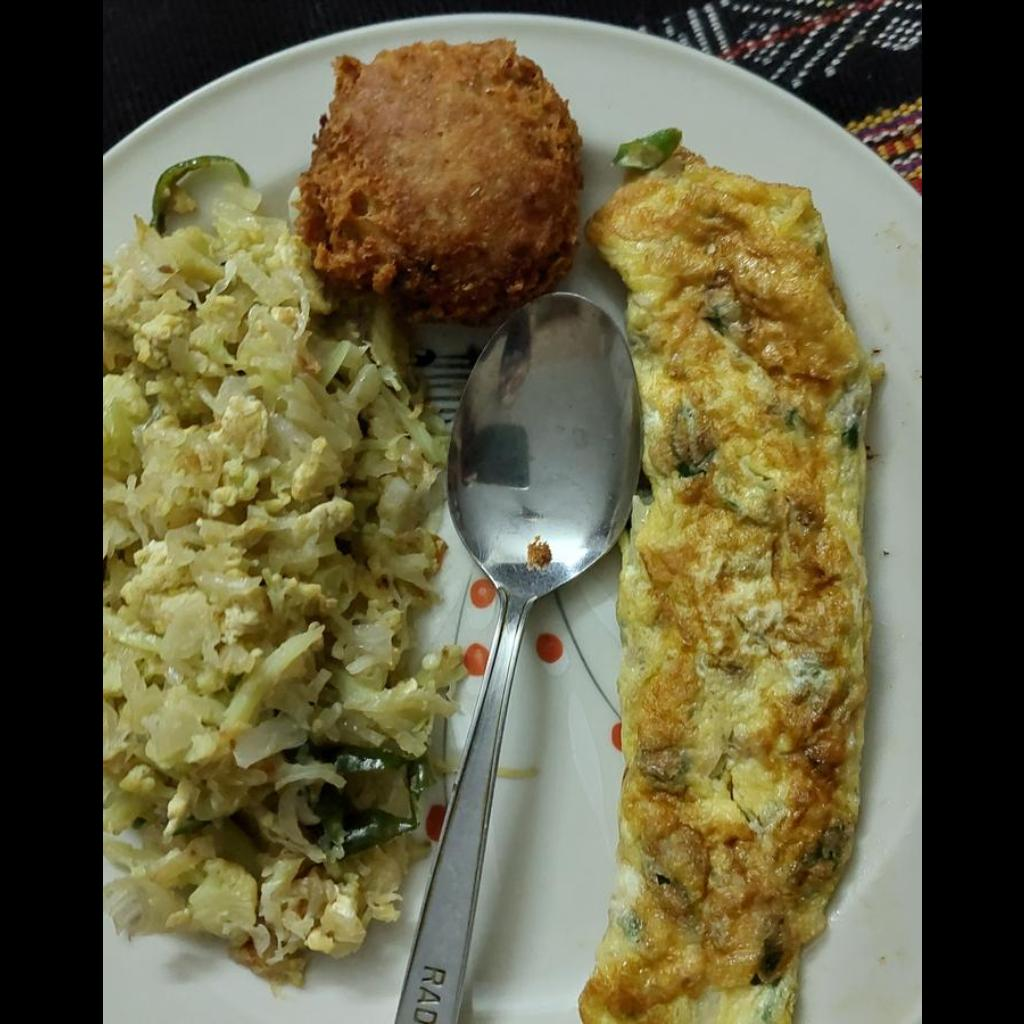egg-poached: (582, 154, 881, 1023)
piyaju: (295, 44, 581, 313)
vaji: (102, 149, 453, 991)
